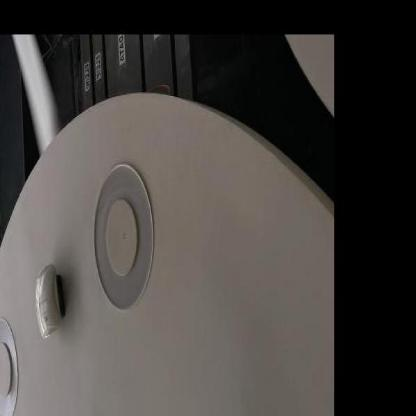light_off: (89, 123, 165, 341)
